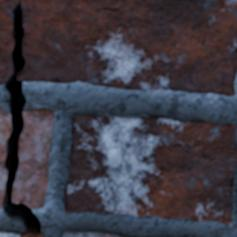brick: (65, 113, 236, 224), (63, 230, 121, 236), (0, 231, 42, 236)
broken_brick: (0, 0, 236, 96), (13, 107, 55, 209), (0, 106, 9, 164), (0, 169, 5, 209)
crack: (0, 2, 41, 234), (229, 176, 234, 186)
